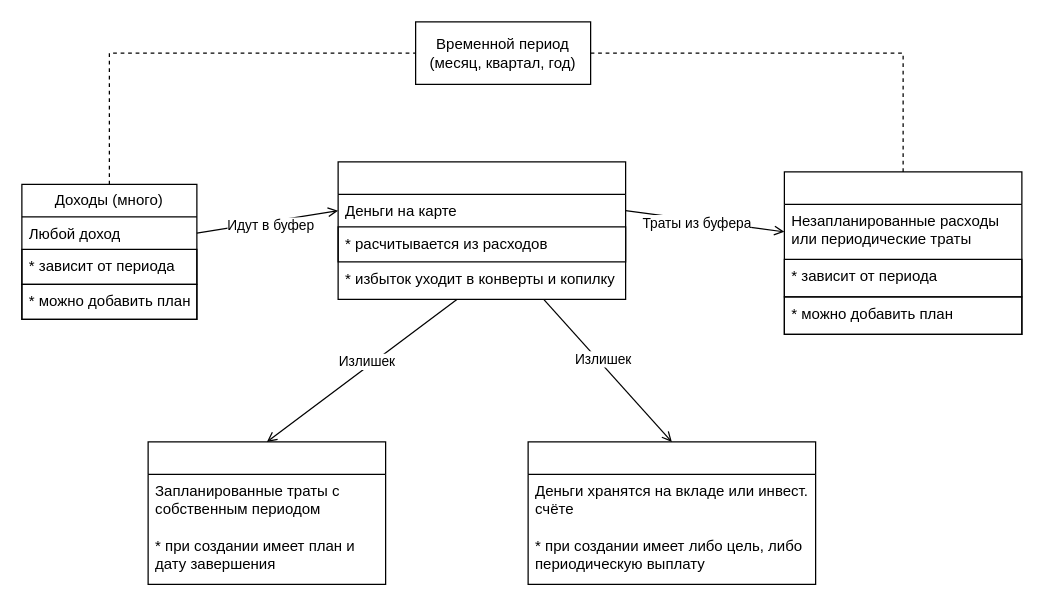
The diagram is 1044 pixels wide and 610 high, and some of its shapes have lost their labels. The box of each missing label's shape, as (x1, y1, x2, y2) in pixels:
Буфер (один): (337, 161, 626, 299)
Конверты (много): (147, 441, 386, 584)
Копилка (много): (527, 441, 816, 584)
Расходы (много): (783, 171, 1022, 334)
